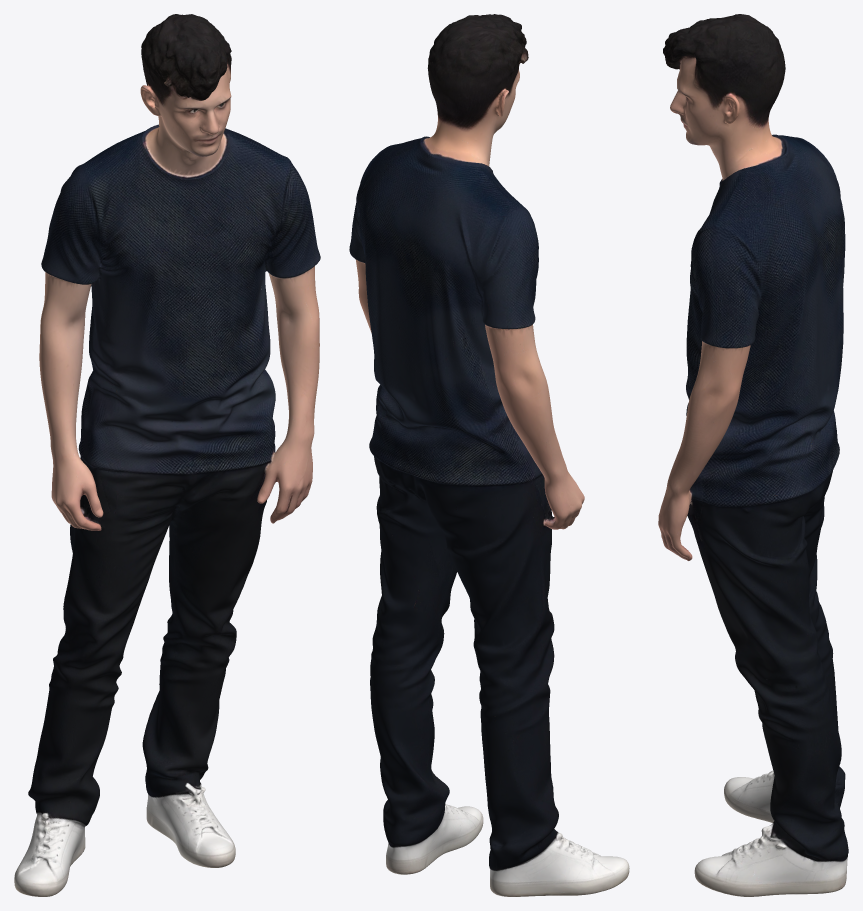
Rendered from casual_navy_dotted_t-_shirt_and_dark_jeans.glb.
3 views of the same model, side by side, from view 1: azimuth 30°, elevation 25°; view 2: azimuth 150°, elevation 25°; view 3: azimuth 270°, elevation 25° (orthographic). The views are drawn at different scales.
Visible parts, largest first — view 1: Object_5, Object_6, Object_7; view 2: Object_6, Object_5, Object_7; view 3: Object_6, Object_5, Object_7.
Part boxes in pixels (x1,y1,x2,y2): Object_5: [19, 14, 320, 896]; Object_6: [14, 14, 292, 892]; Object_7: [20, 15, 236, 896]; Object_6: [356, 24, 626, 896]; Object_5: [349, 14, 629, 878]; Object_7: [364, 25, 625, 879]; Object_6: [695, 17, 848, 896]; Object_5: [658, 14, 831, 883]; Object_7: [696, 17, 770, 896].
Size of the model in its own units: 0.6801 by 1.9 by 0.3832.
1 material, 1 textured.
